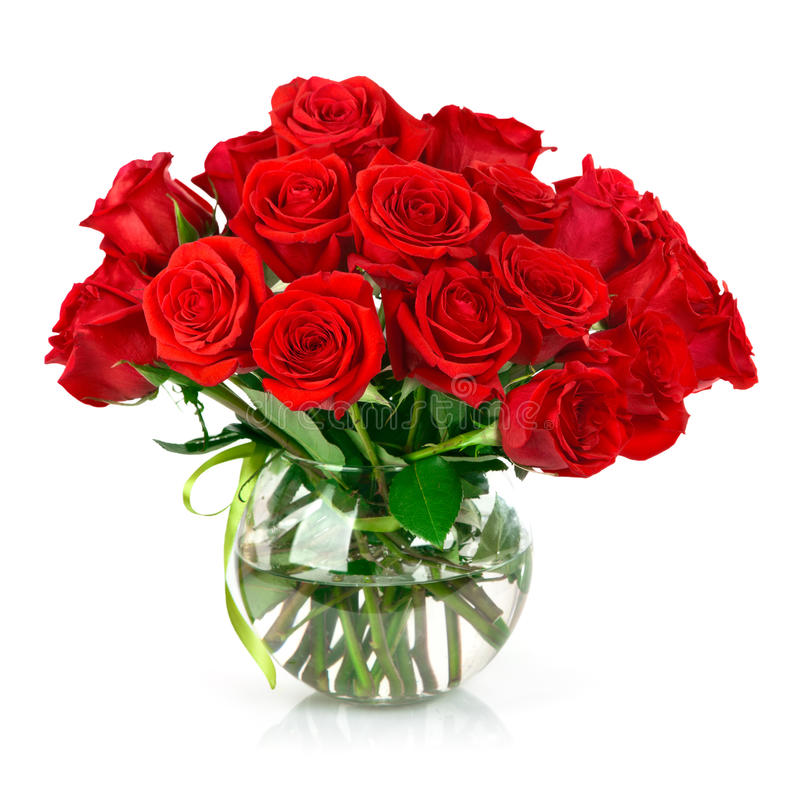RedRose: (249, 271, 396, 409), (74, 134, 213, 272), (385, 267, 507, 422), (148, 238, 263, 394), (45, 264, 163, 410), (215, 144, 357, 264), (490, 232, 621, 361), (503, 367, 634, 486), (353, 158, 490, 265), (595, 306, 689, 454), (640, 289, 779, 389), (554, 151, 682, 258), (618, 237, 730, 331), (280, 114, 421, 169), (430, 118, 556, 179), (454, 158, 554, 231)
